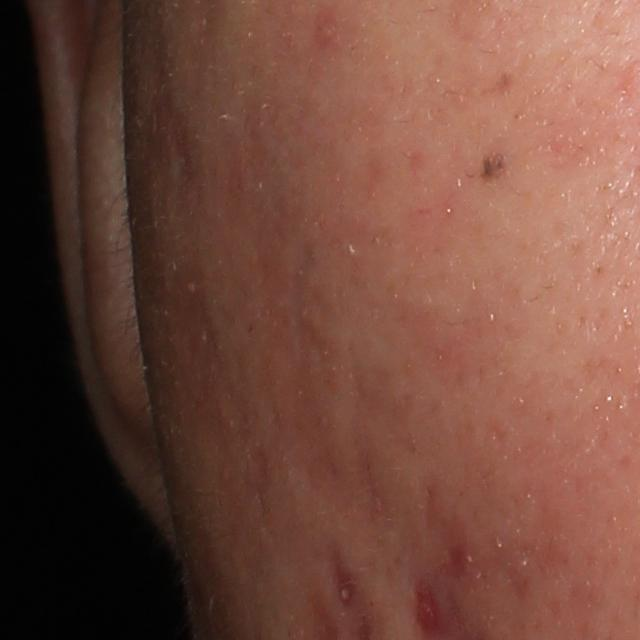nevus: (469, 152, 517, 186)
